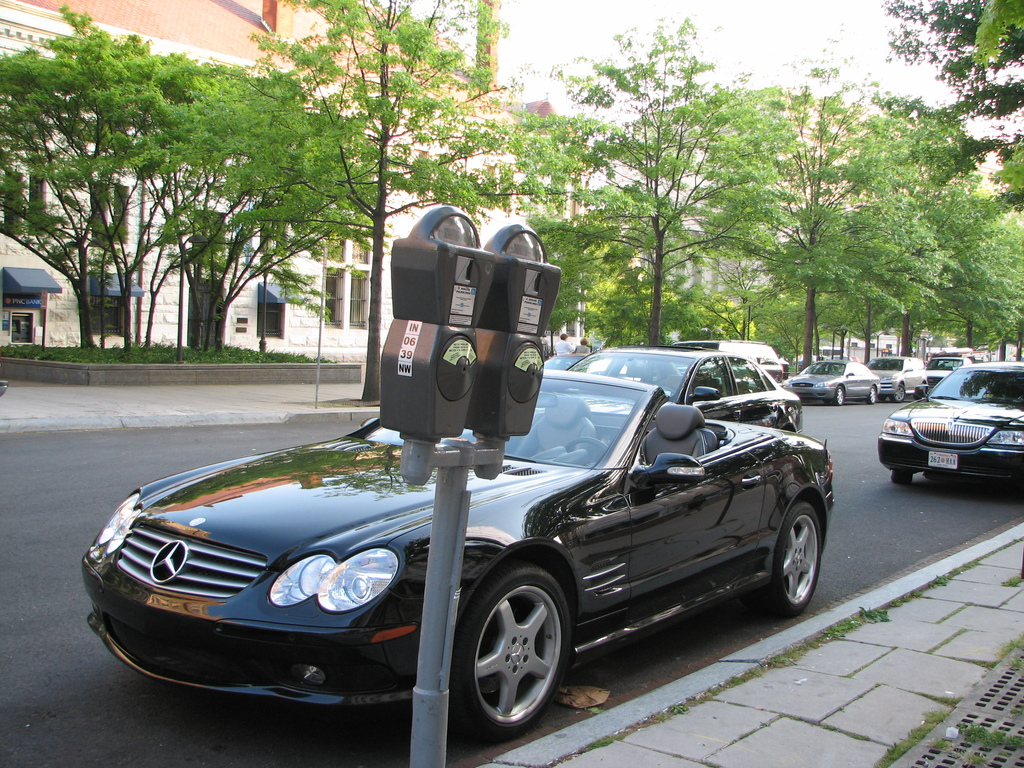Car: (109, 332, 841, 737), (567, 346, 803, 432), (873, 360, 1023, 480), (672, 337, 789, 384), (785, 357, 880, 401), (865, 353, 926, 399), (926, 354, 962, 391), (538, 351, 585, 370), (827, 353, 858, 362)
